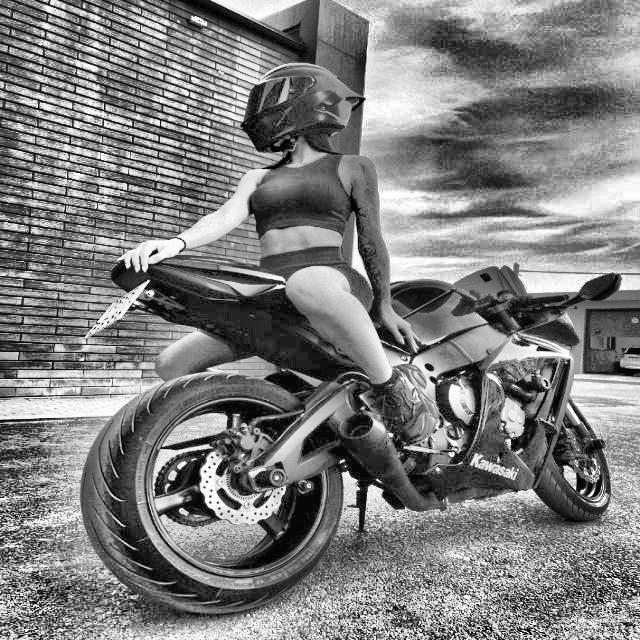Helmet: (237, 60, 368, 156)
